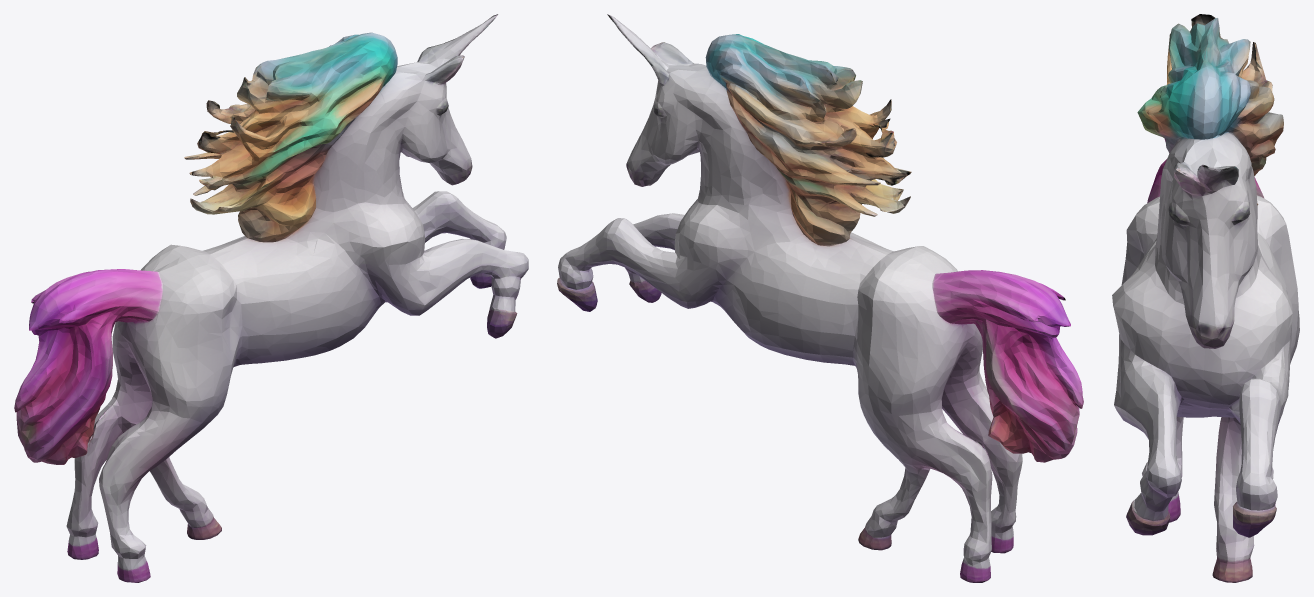
File: unicorn-2.glb
3 renders of one model, left to right at view 1: azimuth 30°, elevation 25°; view 2: azimuth 150°, elevation 25°; view 3: azimuth 270°, elevation 25°, orthographic. The views are drawn at different scales.
Visible parts, largest first — view 1: world; view 2: world; view 3: world.
Part boxes in pixels (<box>): world: <box>14,14,528,582</box>; world: <box>557,14,1083,582</box>; world: <box>1112,14,1299,582</box>.
Size of the model in its own units: 0.9909 by 0.8723 by 0.2463.
Materials: 1 (1 with a texture image).
